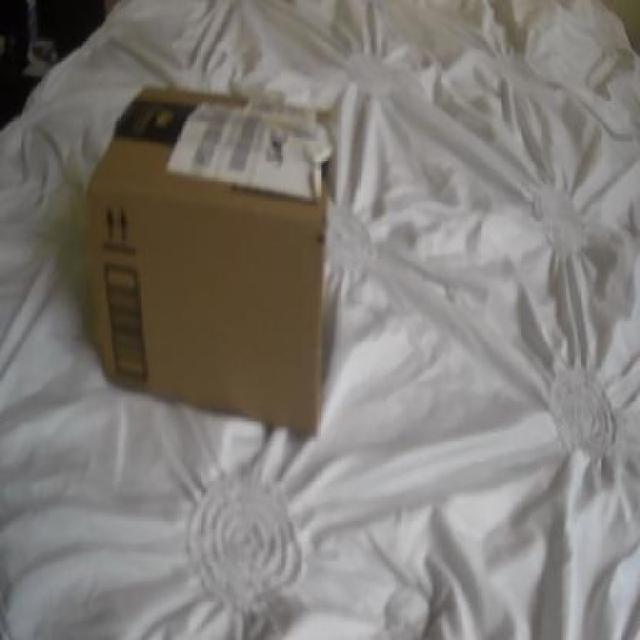cardboxes: (76, 77, 341, 455)
